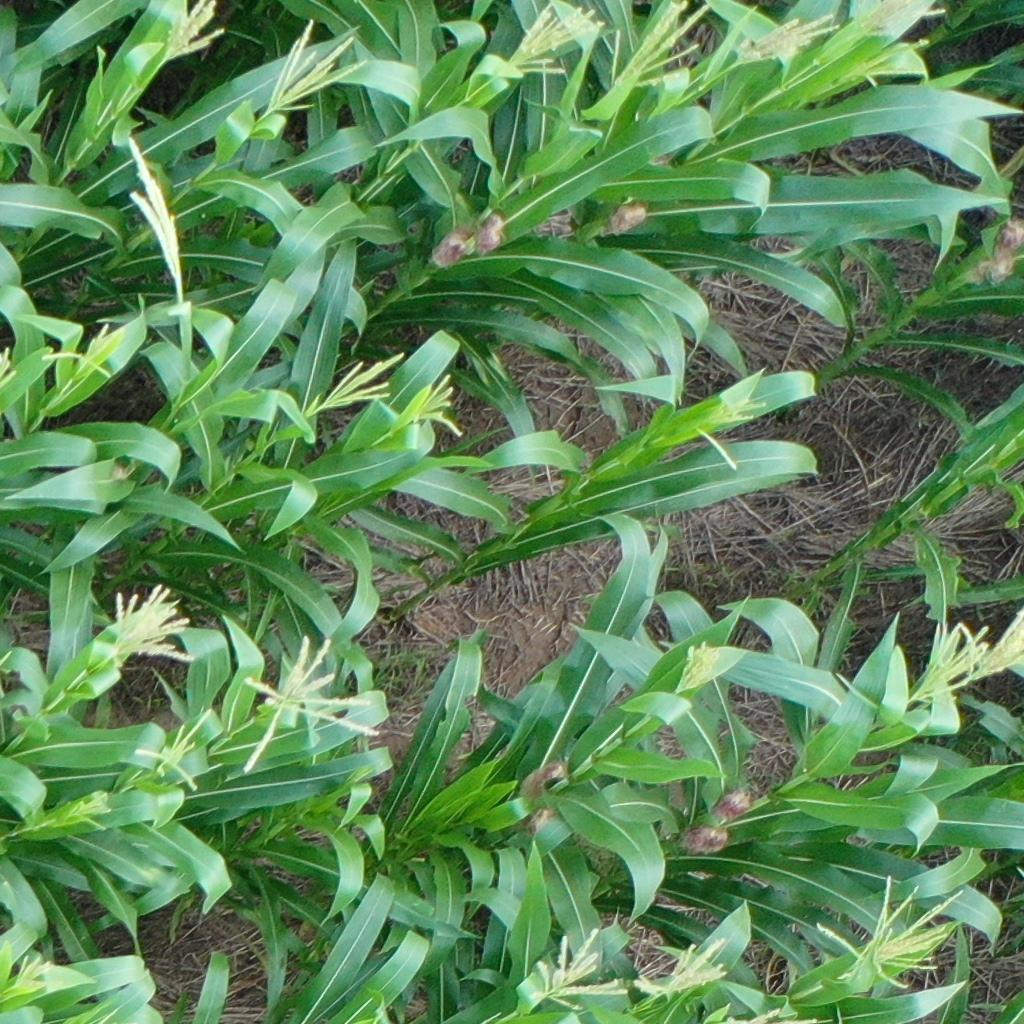Tassel: (236, 628, 381, 774), (814, 864, 966, 990), (904, 590, 1024, 710), (265, 15, 370, 118), (121, 137, 189, 281), (608, 1, 714, 90), (100, 574, 201, 665), (496, 1, 603, 84), (526, 925, 629, 1011), (634, 938, 736, 1008), (729, 8, 841, 71), (136, 705, 217, 792), (696, 387, 765, 472), (303, 350, 404, 406), (849, 33, 929, 100), (36, 324, 118, 382), (850, 1, 947, 47), (159, 1, 229, 62), (413, 370, 463, 441), (678, 638, 727, 690), (69, 794, 114, 843), (12, 953, 54, 995), (1, 340, 20, 397)
